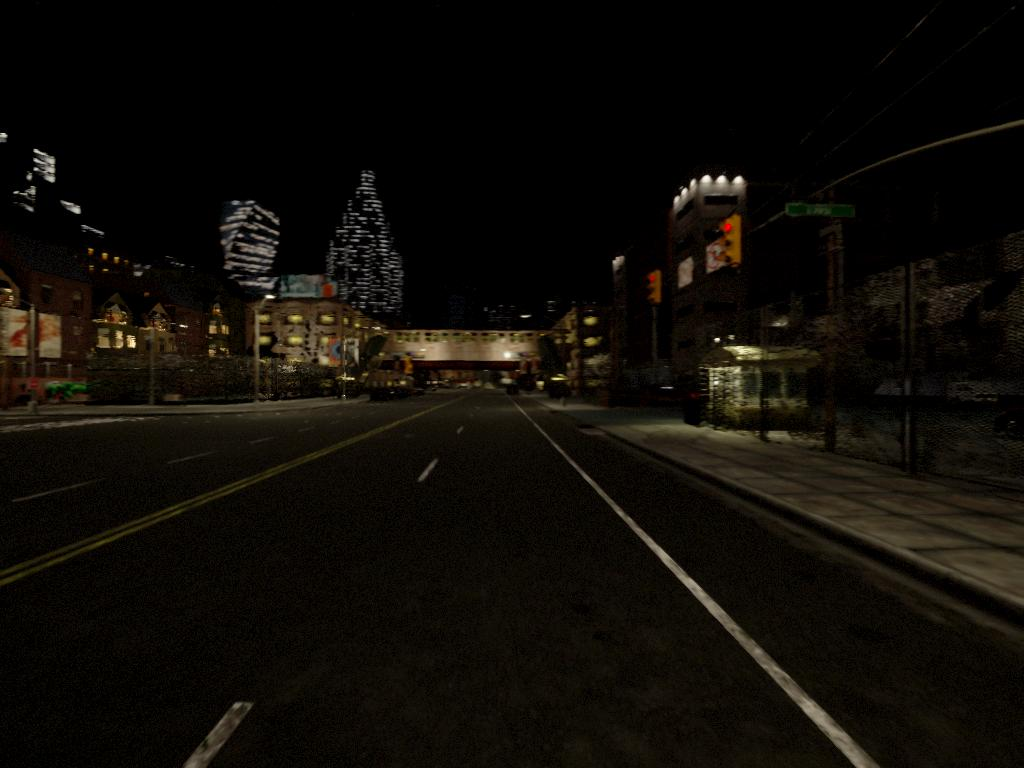traffic_light: (720, 217, 742, 269), (647, 273, 664, 303)
